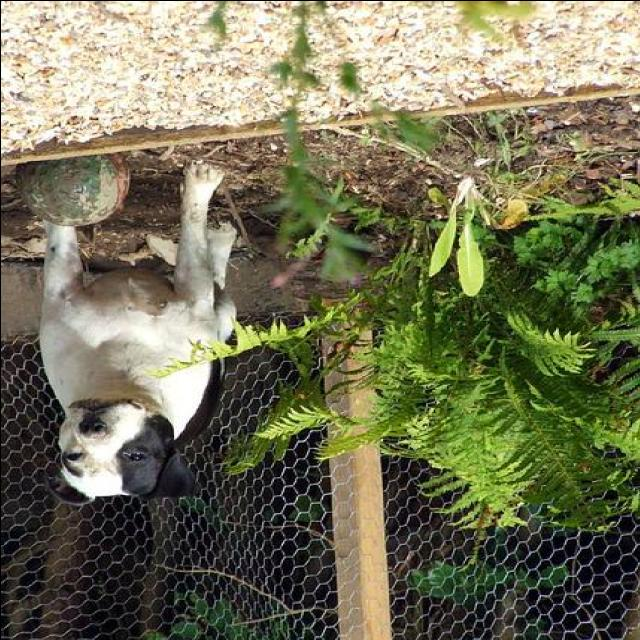staffordshire_bullterrier: (34, 160, 240, 508)
